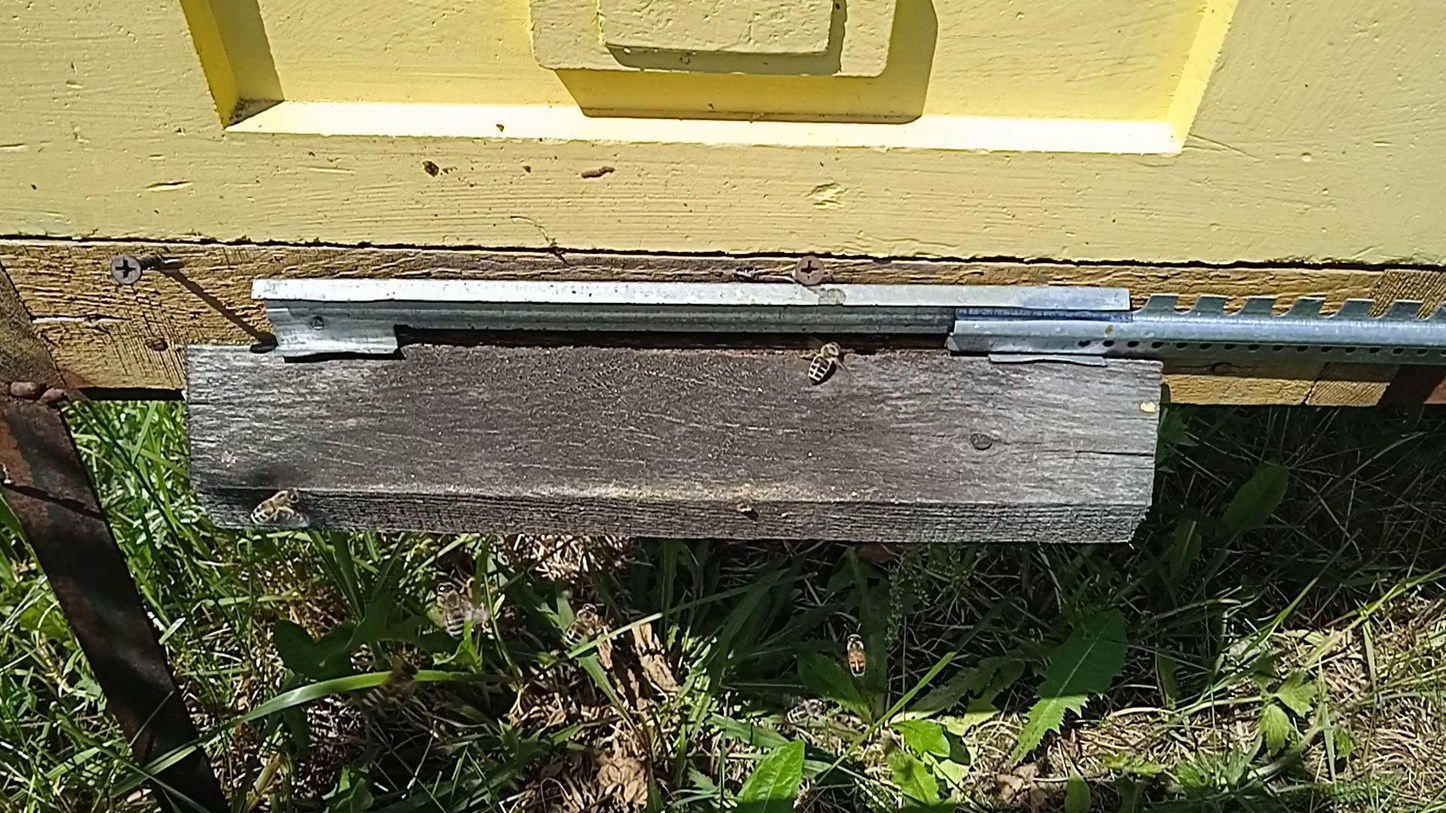worker-bee: (361, 665, 420, 709), (251, 487, 304, 525), (435, 581, 468, 641), (807, 339, 845, 384), (563, 602, 600, 646), (785, 696, 827, 723), (845, 632, 868, 679), (72, 790, 96, 813)
